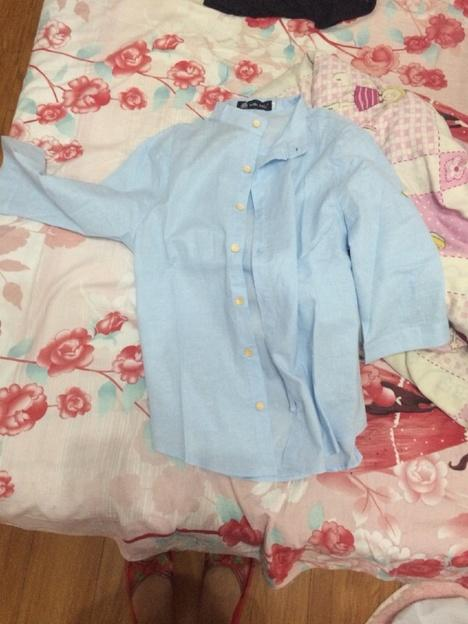S_shirt: (1, 98, 448, 480)
